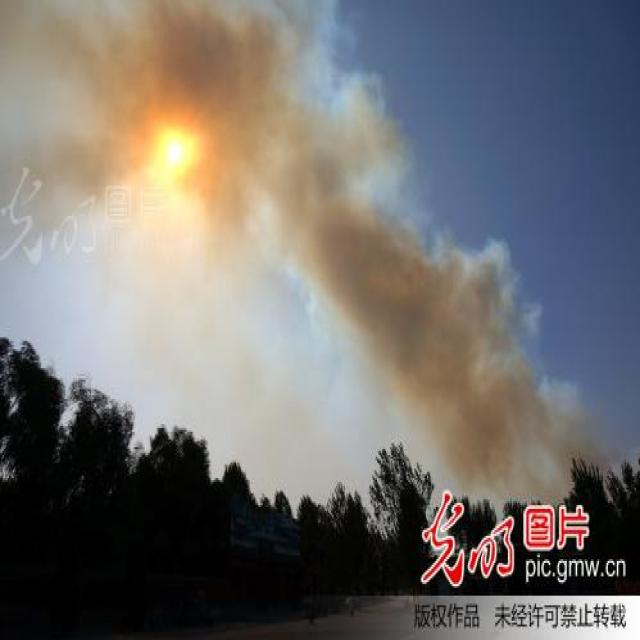smoke: (1, 0, 602, 493)
